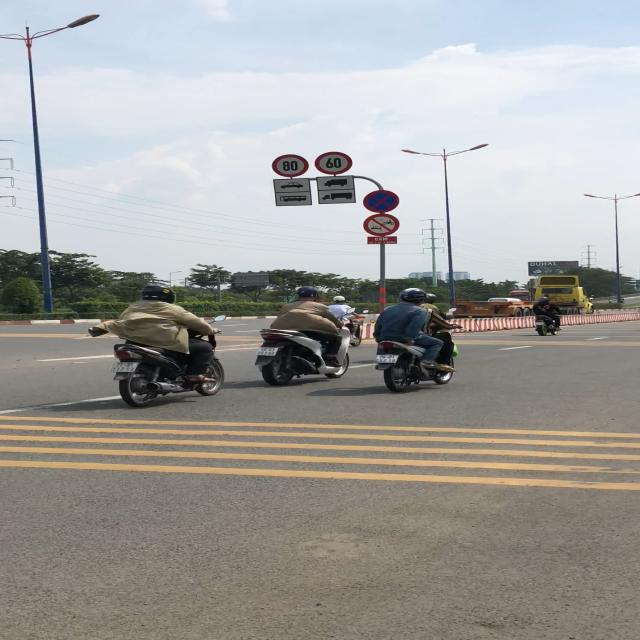Bien bao cam dung xe va do xe: (363, 189, 404, 214)
Bien bao toc do toi da cho phep: (313, 152, 357, 176), (271, 153, 309, 178)
